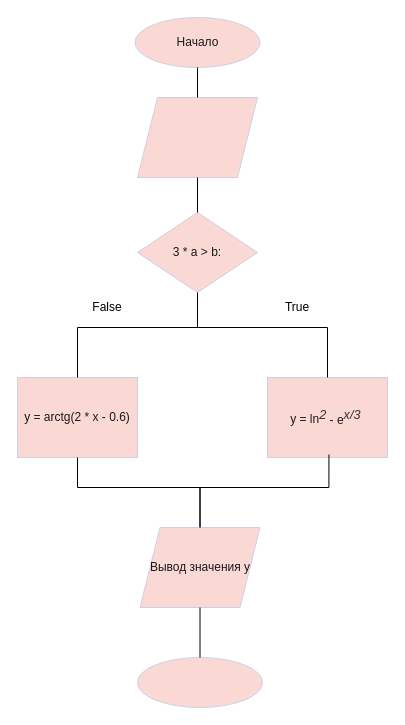
Some shapes in this 405 by 725 pixel diagram are drawn without their labels. The centre of each missing label's shape, as x and y in pixels:
"Ввод значений a, b, x" goes at pixel 197 137.
"Конец" goes at pixel 199 682.
